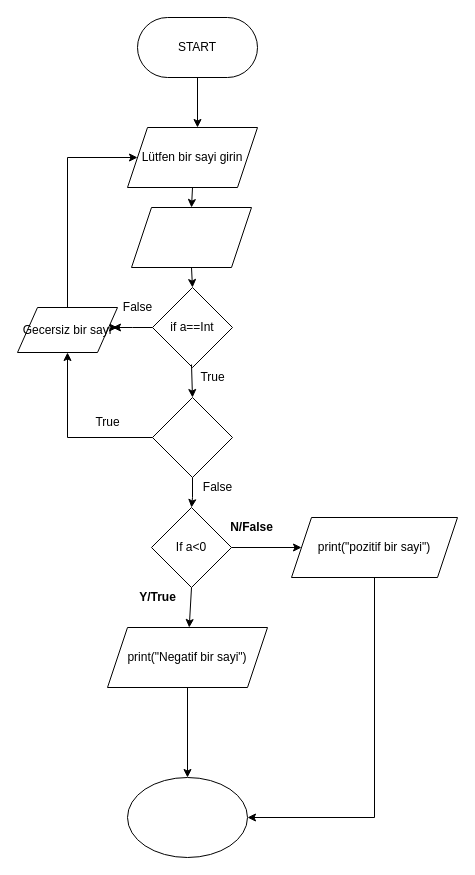
The diagram is 475 pixels wide and 875 high, and some of its shapes have lost their labels. The shapes that lost their labels are listed below. From the top down, each one's centre as x and y in pixels, then its label:
point 191,237: Input Sayi==a
point 192,437: If a==0
point 187,817: STOP
